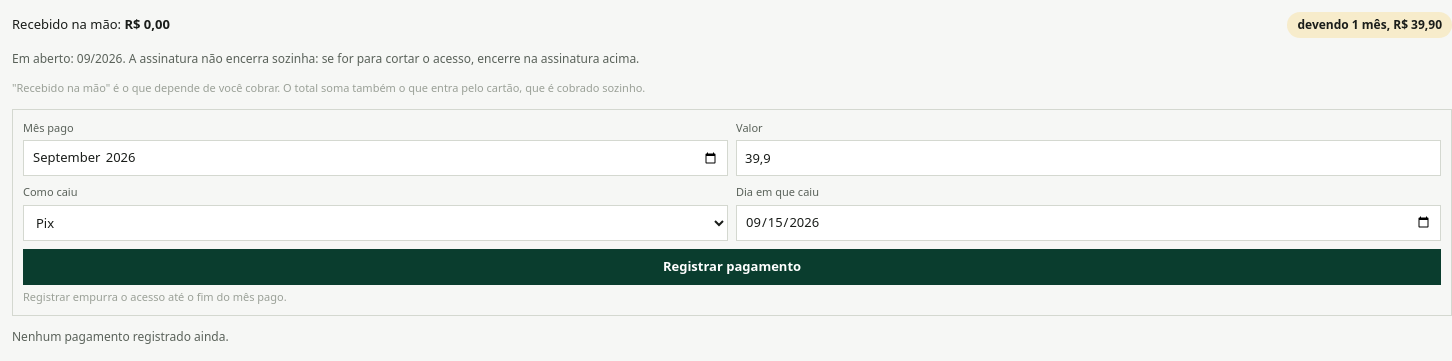
lançar um pagamento › valor em branco também trava: sem valor não há pagamento
Clear the field named "Valor recebido": (1088, 158) [736,140,1441,176]
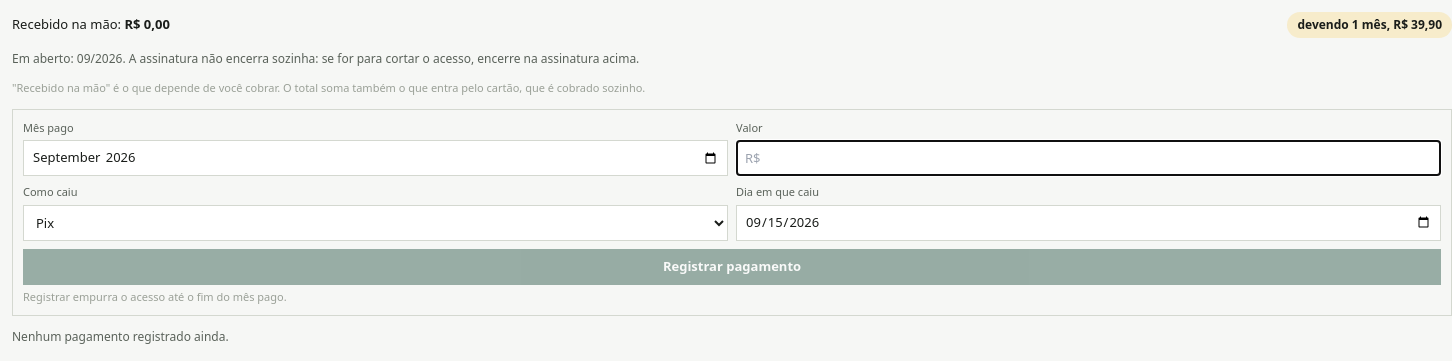
Check: the button "Registrar pagamento" is disabled, box [23,248,1441,284]
